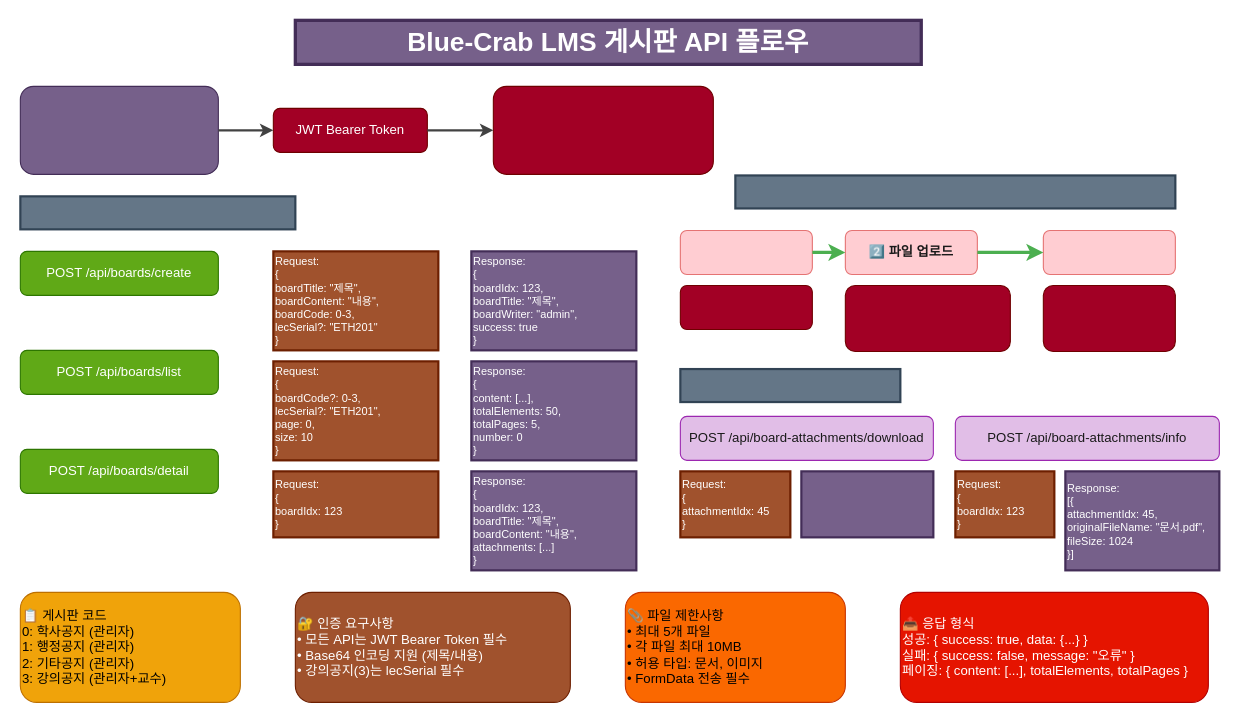
The diagram is 1239 pixels wide and 722 high, and some of its shapes have lost their labels. The box of each missing label's shape, as (x1, y1, x2, y2) in pixels:
1️⃣ 게시글 생성: (679, 229, 812, 274)
3️⃣ 첨부파일 연결: (1042, 229, 1175, 274)
POST /api/board-attachments/upload/{boardIdx} FormData로 전송 → attachmentIdx[] 반환: (844, 284, 1010, 351)
POST /api/boards/create → boardIdx 반환: (679, 284, 812, 329)
POST /api/boards/link-attachments/{boardIdx} {attachmentIdxList: [...]} → 연결 완료: (1042, 284, 1175, 351)
Response: Blob 파일 데이터 브라우저 자동 다운로드: (800, 470, 934, 538)
Spring Boot REST API: (492, 85, 713, 174)
클라이언트 (React / 브라우저 콘솔): (19, 85, 218, 174)
📎 첨부파일 API (3단계 워크플로우): (734, 174, 1176, 209)
📝 게시글 CRUD API: (19, 195, 296, 230)
📥 파일 다운로드 API: (679, 367, 901, 403)
